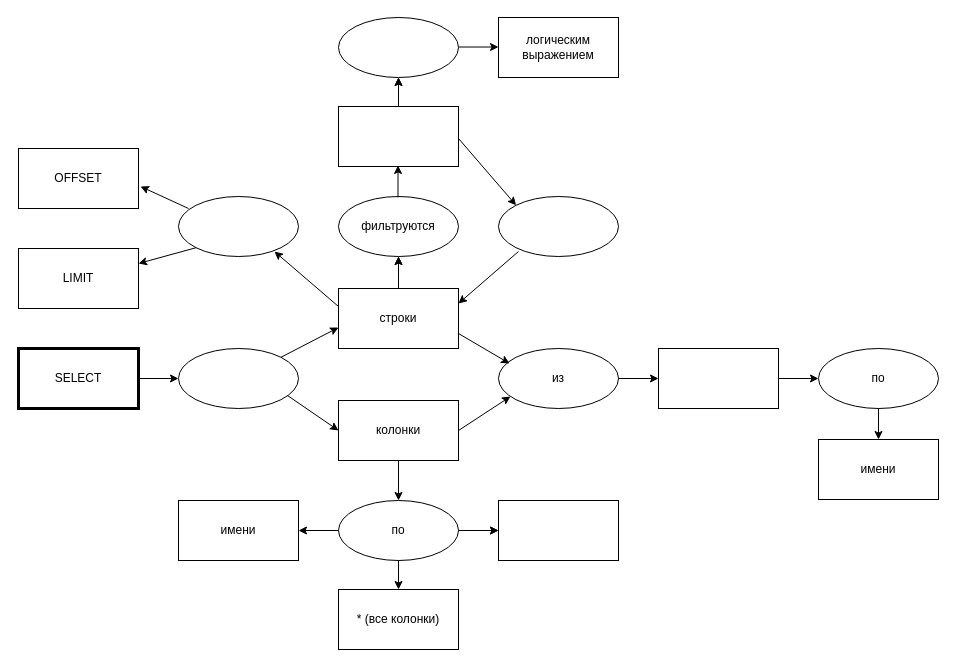
The diagram is 956 pixels wide and 667 high, and some of its shapes have lost their labels. The shapes that lost their labels are listed below. From the top down, each one's centre as x and y in pixels, then its label:
At (398,47): "являющемуся".
At (398,136): "по условию".
At (238,226): "ограничиваются командой".
At (558,226): "вычисляемому для каждой".
At (238,378): "выбирает".
At (718,378): "таблиц".
At (558,530): "результату вычислений".
